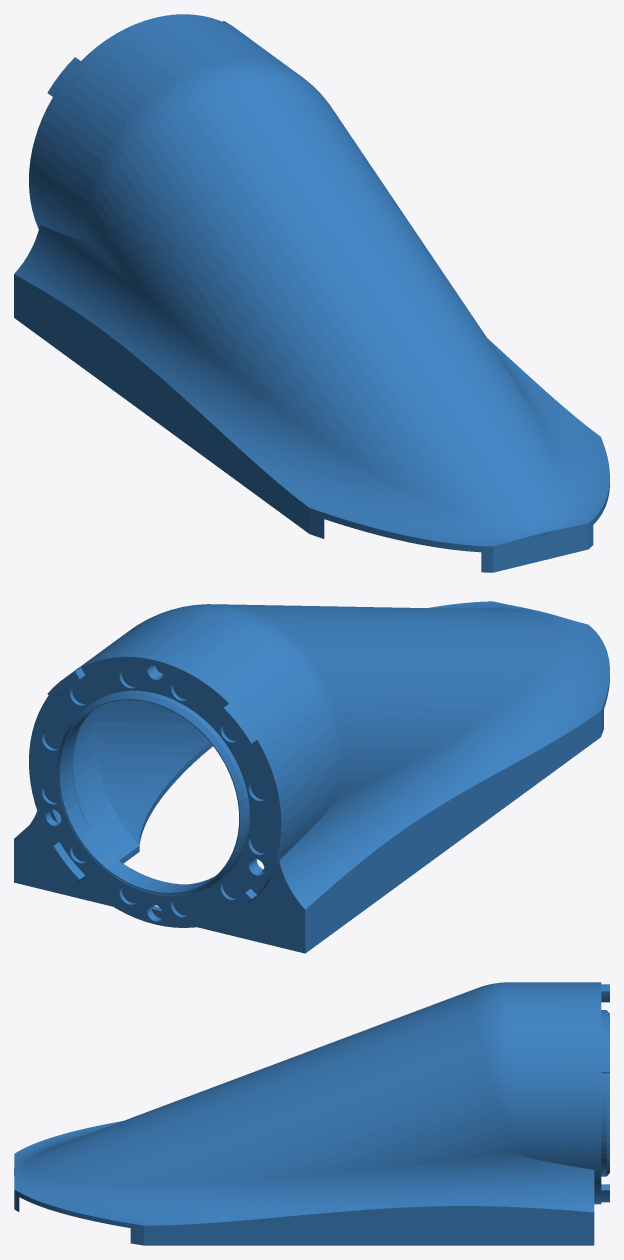
Rendered from cooling-fan-duct.glb.
3 renders of one model, top to bottom at view 1: azimuth 30°, elevation 25°; view 2: azimuth 150°, elevation 25°; view 3: azimuth 270°, elevation 25°, orthographic. The views are drawn at different scales.
Visible parts, largest first — view 1: cooling-fan-duct; view 2: cooling-fan-duct; view 3: cooling-fan-duct.
Part boxes in pixels (x1,y1,x2,y2): cooling-fan-duct: (14, 14, 609, 572); cooling-fan-duct: (14, 601, 609, 953); cooling-fan-duct: (14, 982, 609, 1245).
Bounding box in the file's own units: 0.1477 × 0.128 × 0.3437.
